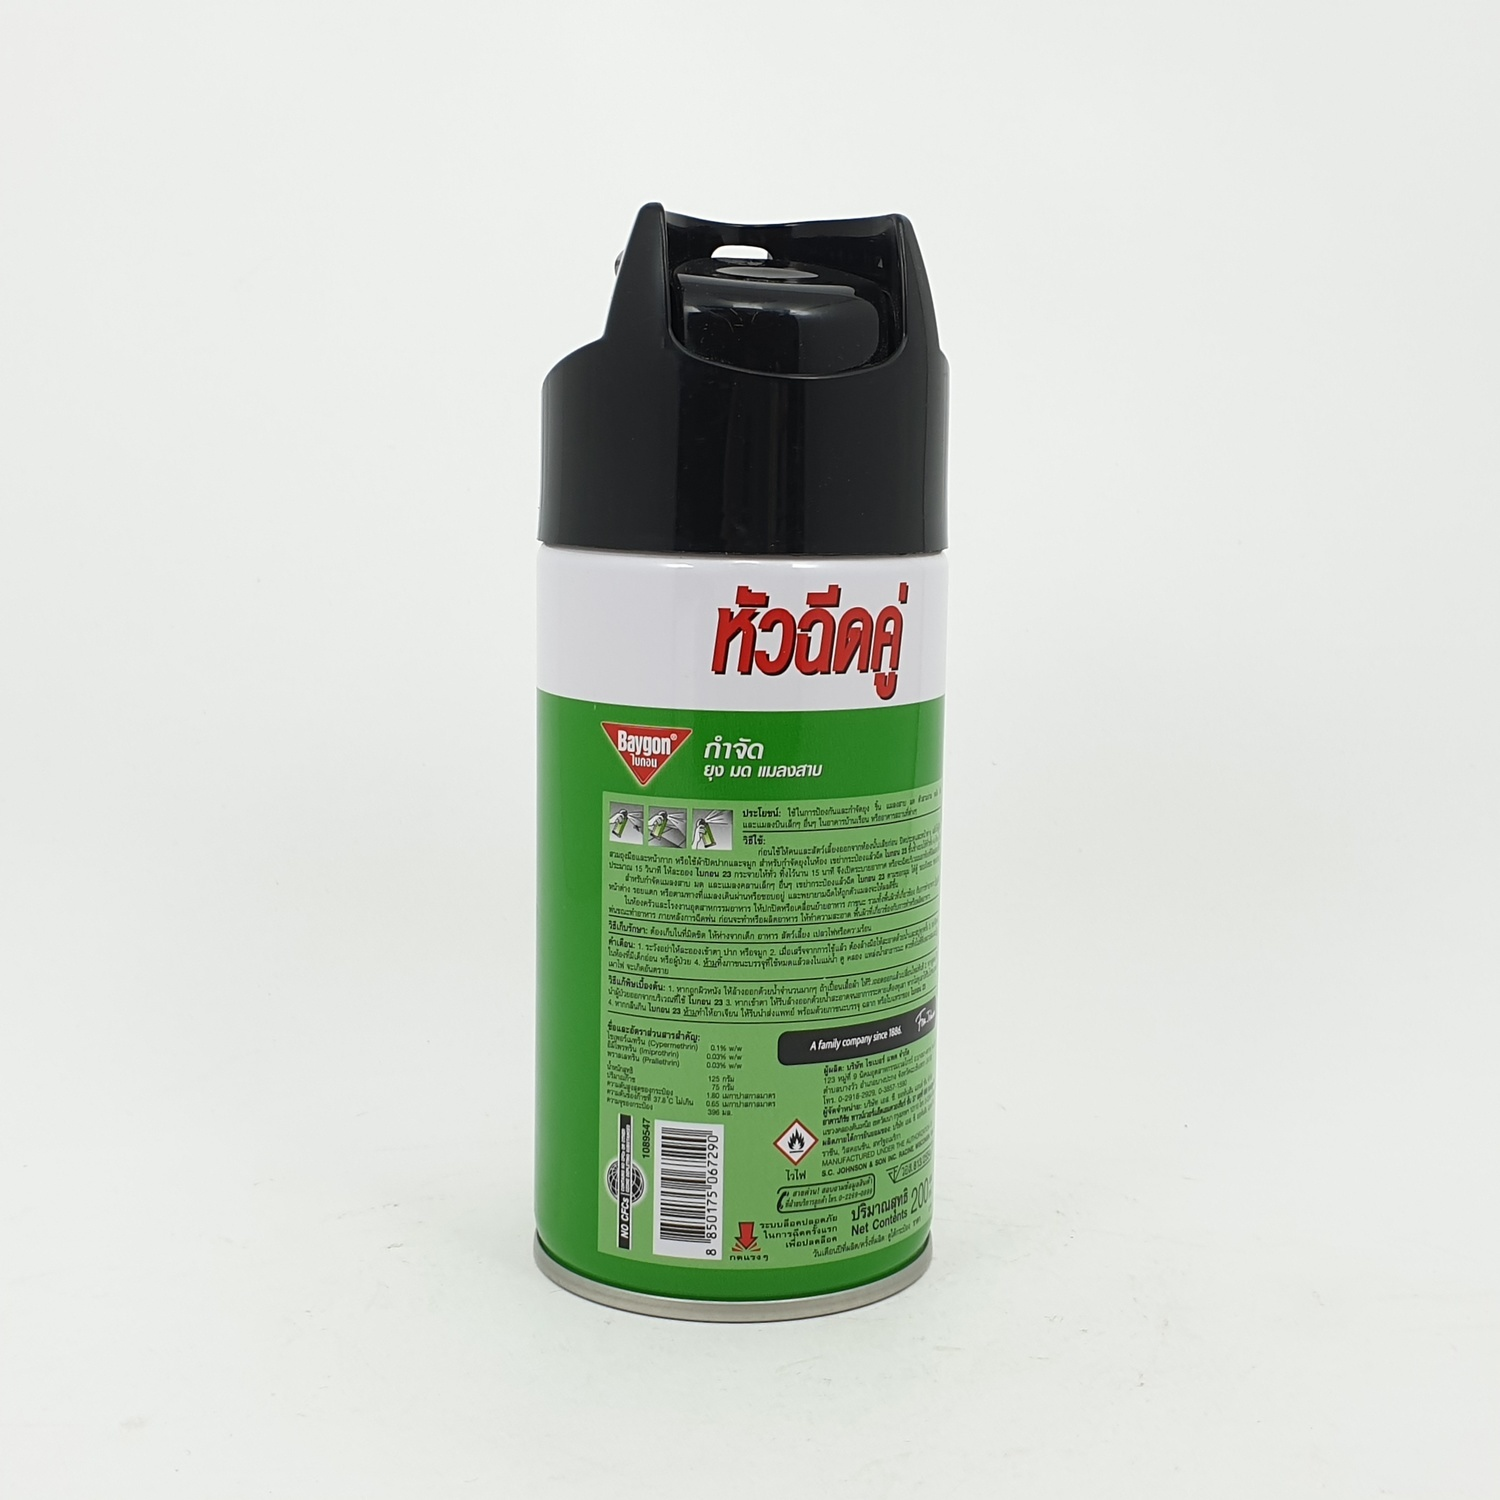Insecticide: (508, 185, 966, 1346)
